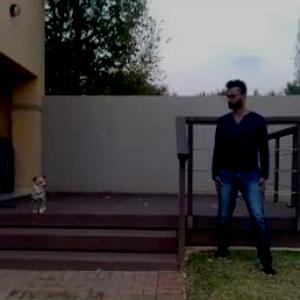follow: (210, 72, 268, 283)
